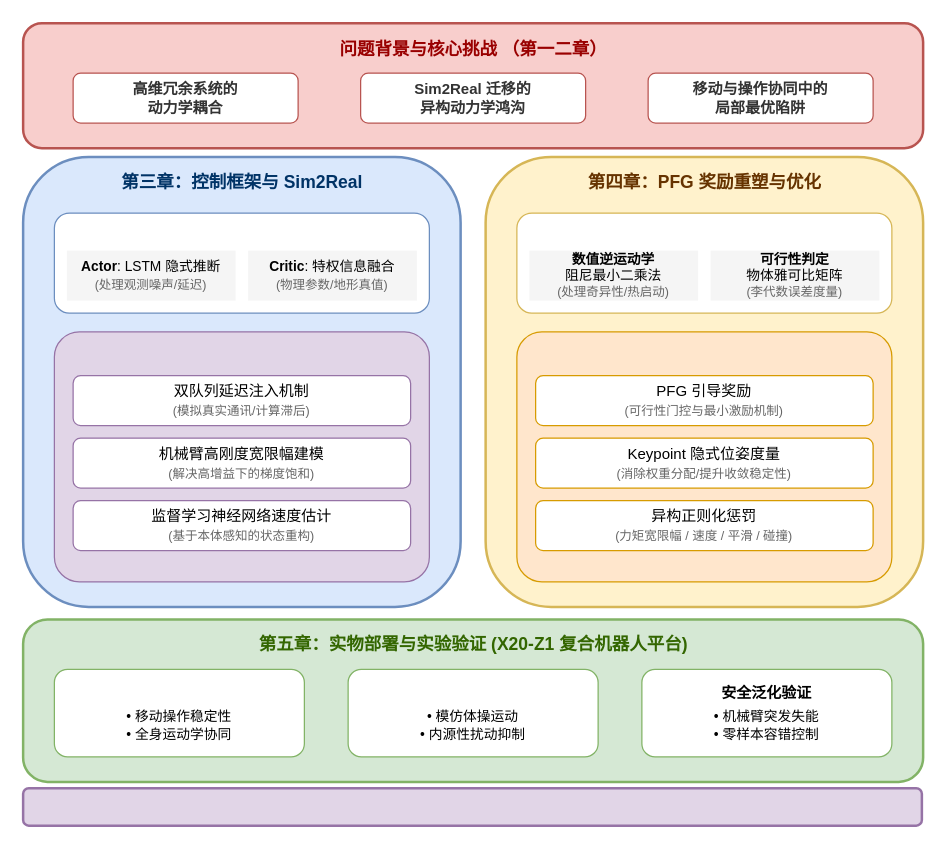
Some shapes in this 945 by 848 pixel diagram are drawn without their labels. Each missing label, with the box of its shape:
Sim-to-Real 迁移策略: (53, 331, 429, 582)
基础能力验证: (53, 668, 304, 757)
复合奖励函数重塑策略: (516, 331, 892, 582)
物理可行域与几何先验: (516, 212, 892, 313)
第六章：总结与展望: (21, 786, 922, 826)
非对称 Actor-Critic 架构 (POMDP): (53, 212, 429, 313)
高动态鲁棒性验证: (347, 668, 598, 757)
